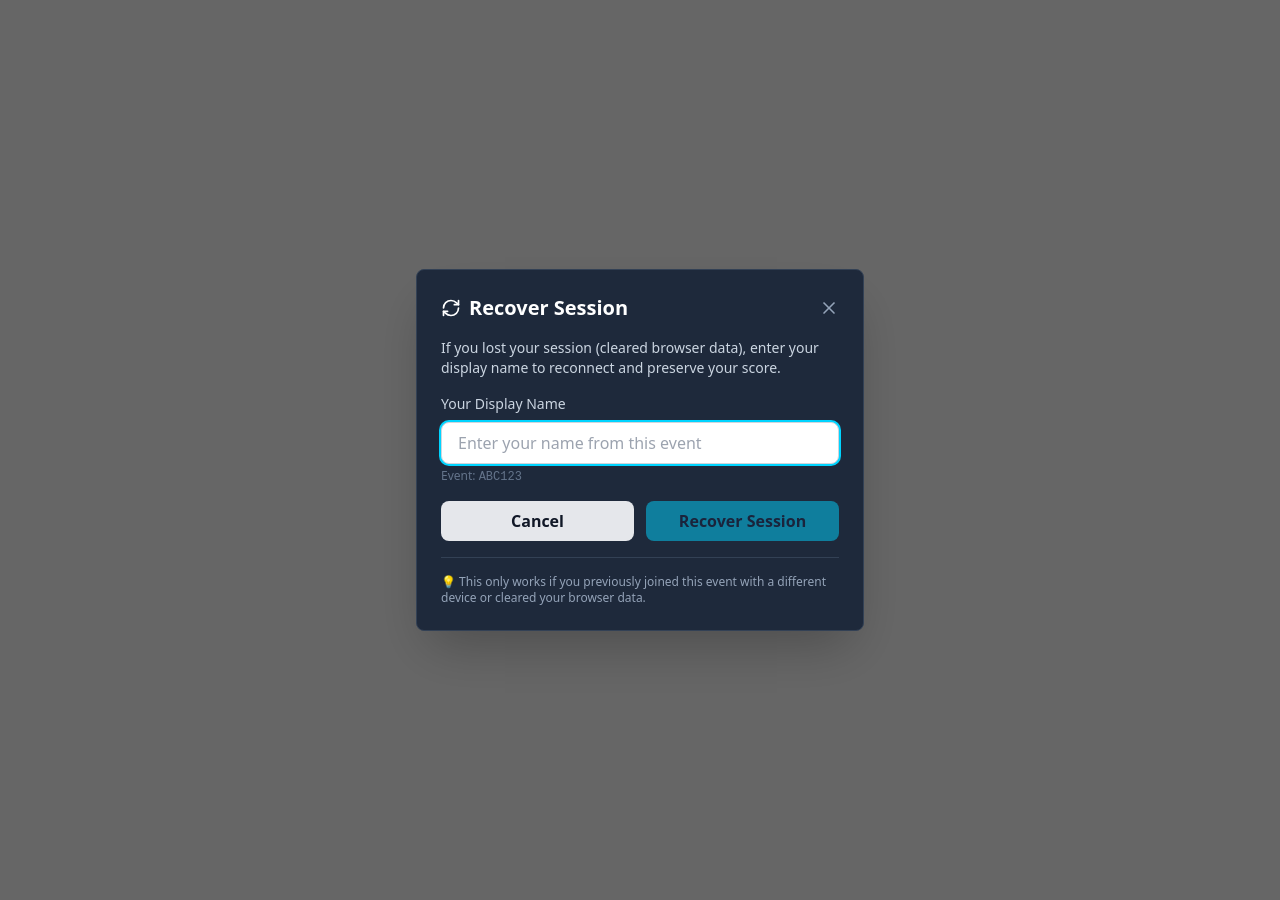
Scenario: RecoverSession › should show generic error for other failures
In the field with placeholder "Enter your name from this event": [640, 443] box [441,422,839,464], type "TestUser"
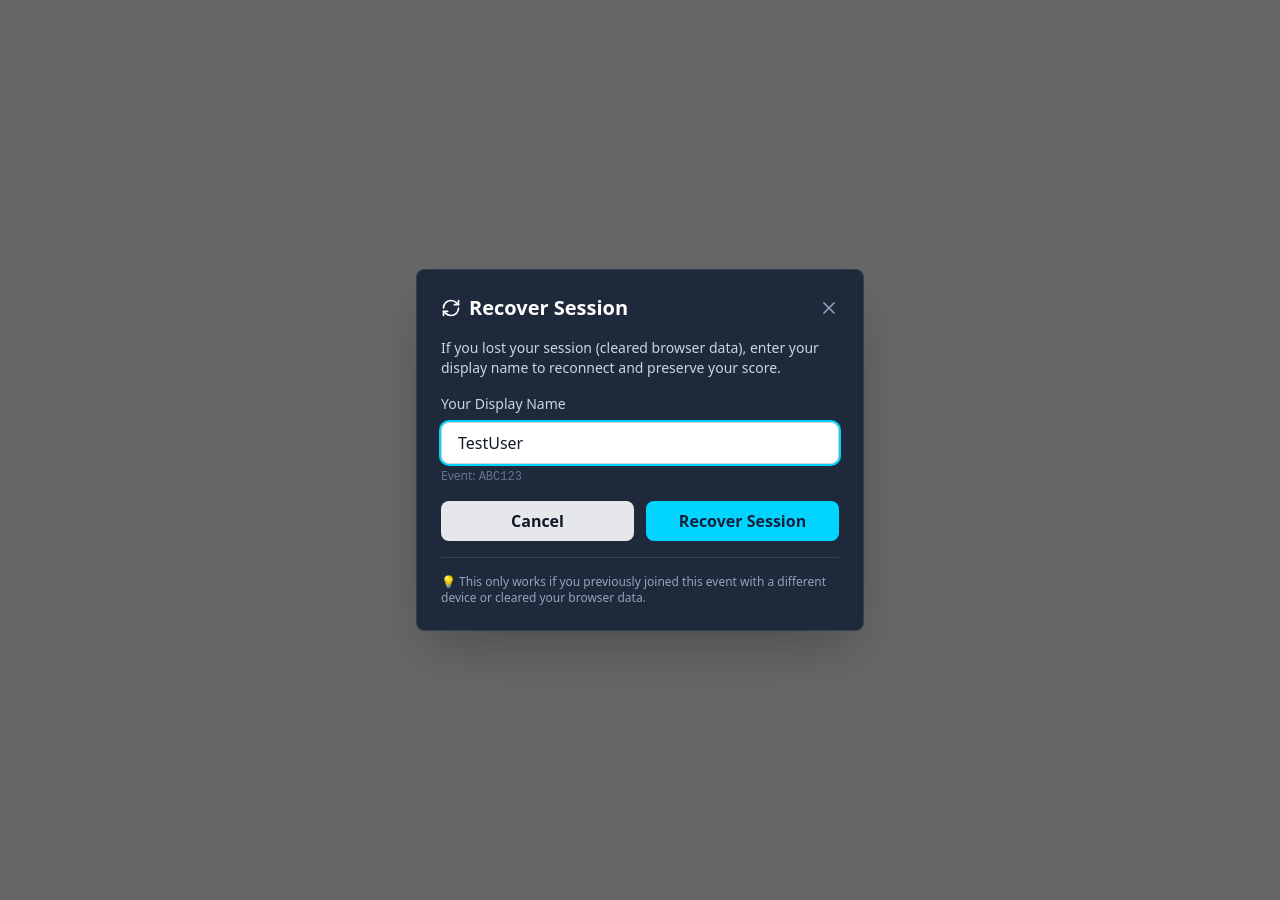
Click the button "Recover Session": [742, 521] box [646,501,839,541]
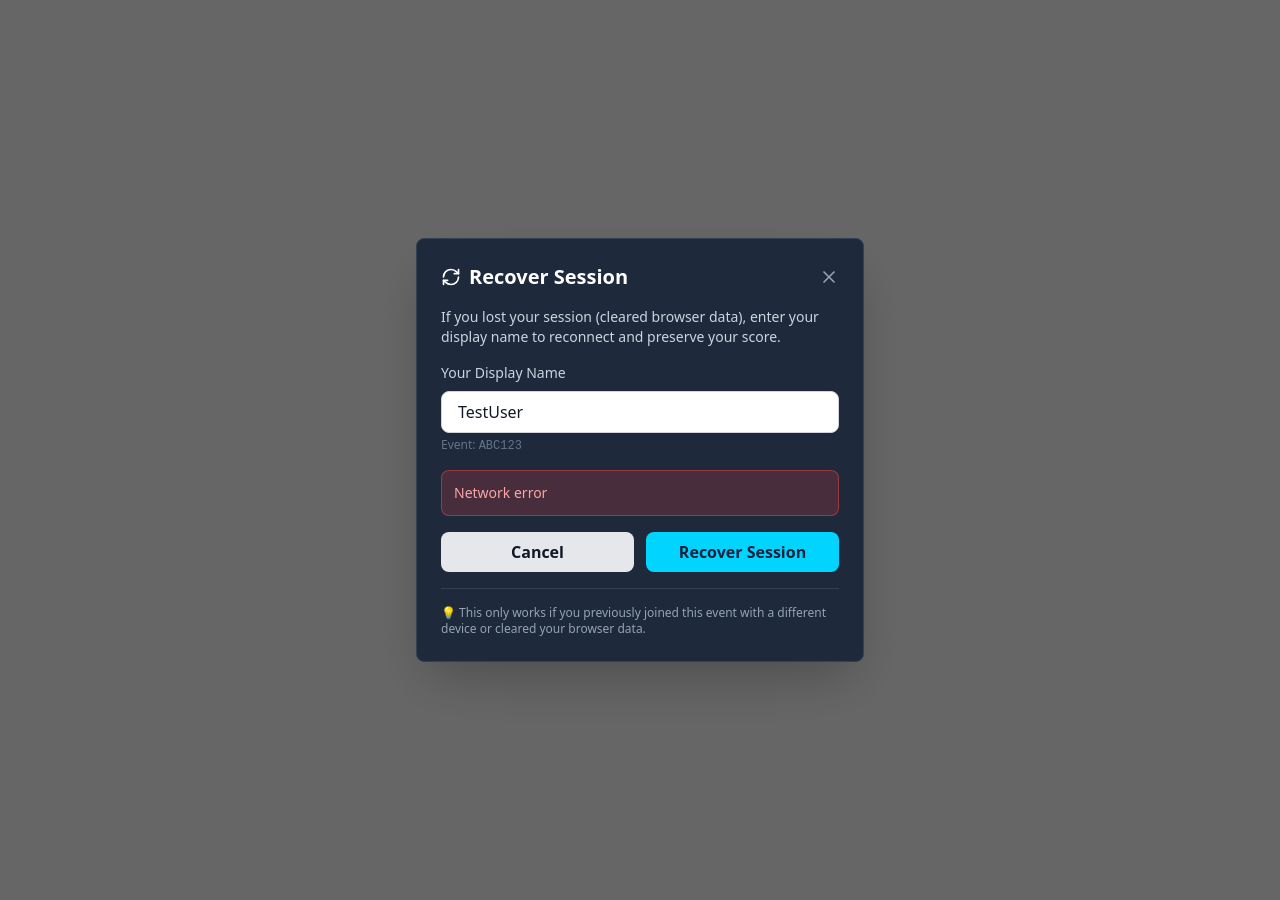
Now the text "Network error" is shown, box [454,483,547,502]
